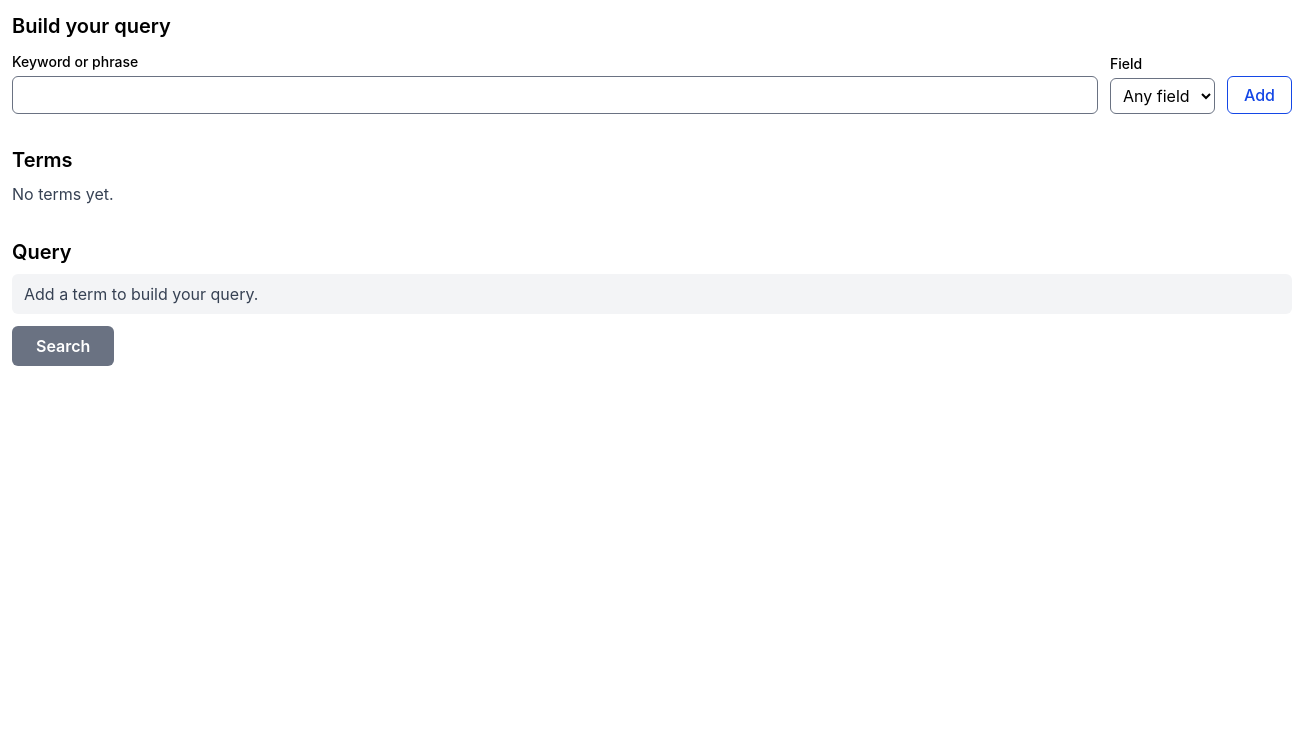
SearchWorkspace › searches only when Search is pressed
Click the button "Search".
click(63, 346)  # box [12,326,114,366]
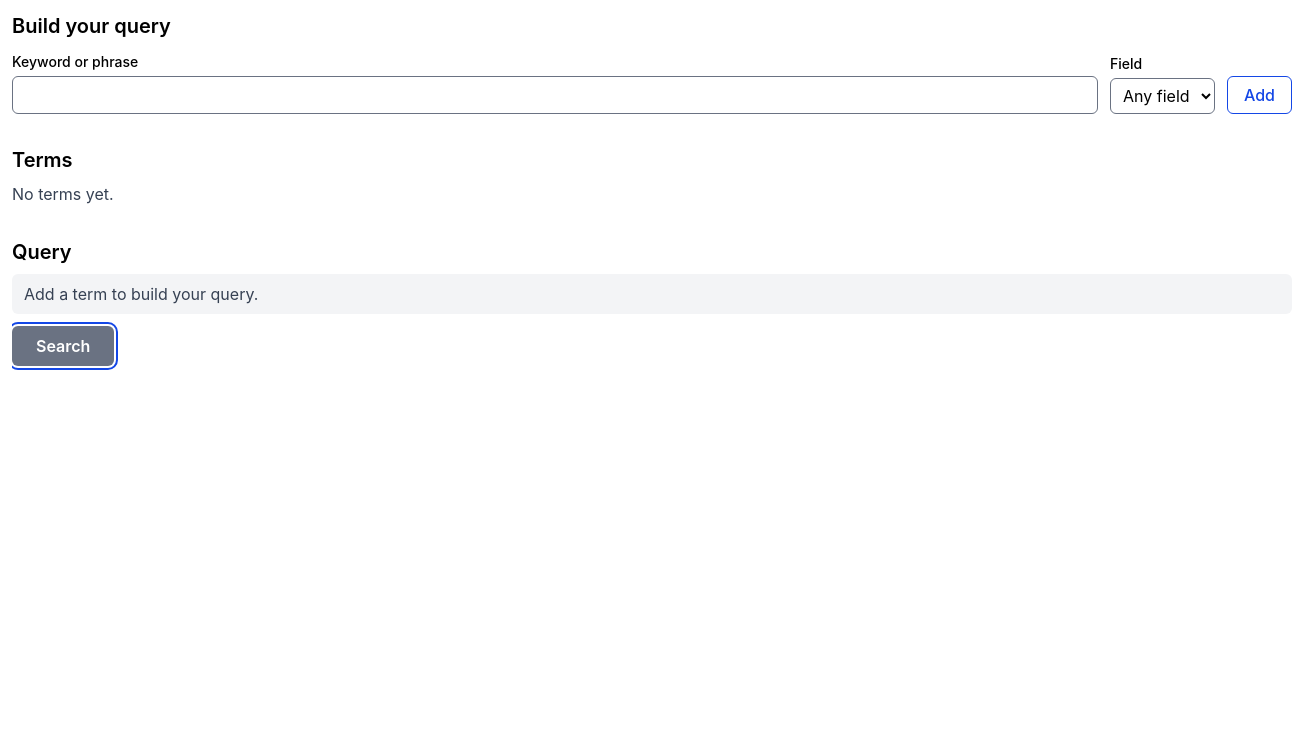
Expected: the heading "Results" is not shown
Type "cancer" into the field labelled "Keyword or phrase".
click(555, 95); type("cancer")  # box [12,76,1098,114]
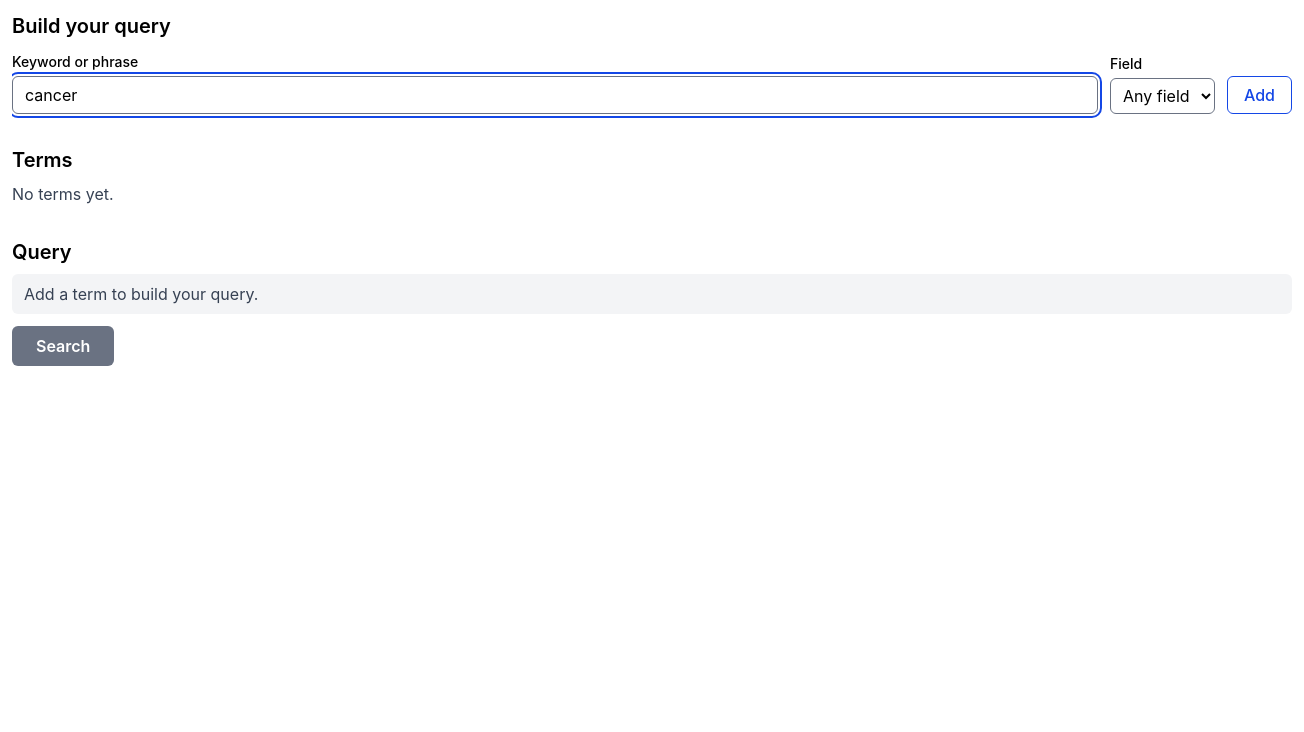
Click the button "Add".
click(1260, 95)  # box [1227,76,1292,114]
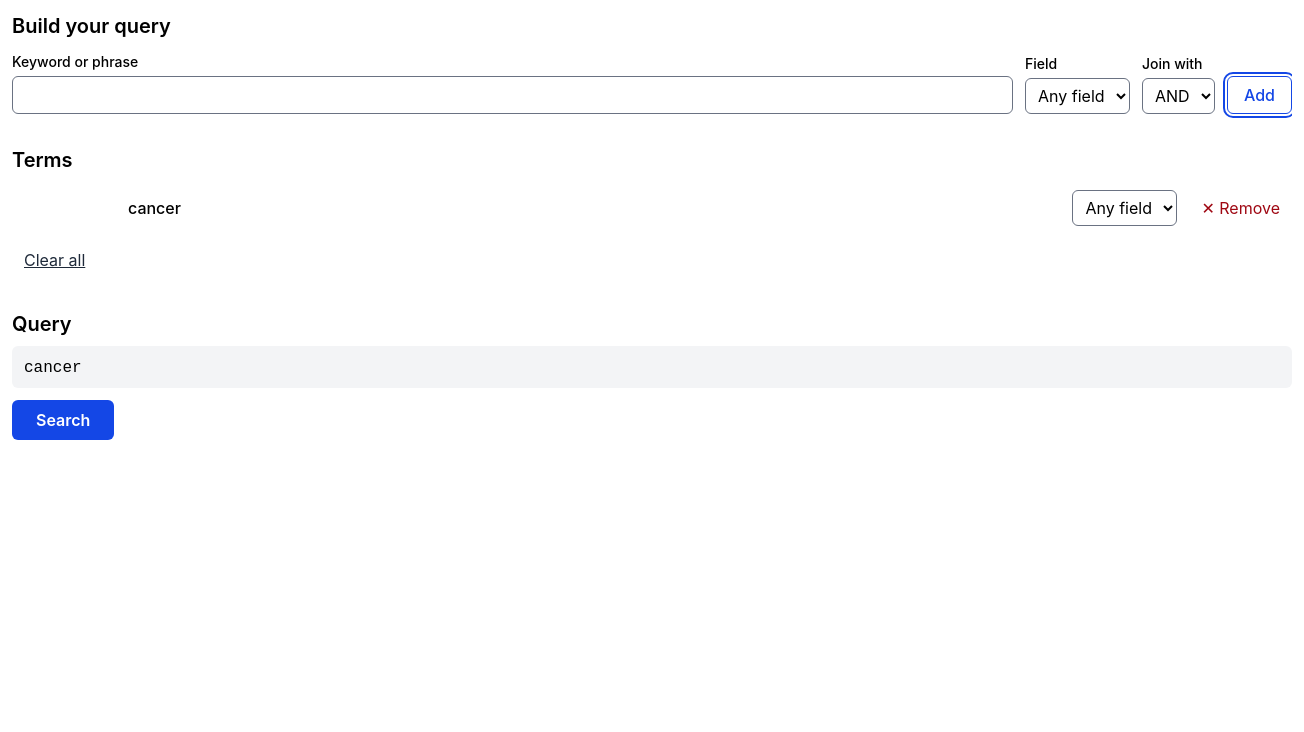
Expected: the heading "Results" is not shown
Expected: the button "Search" is enabled
Click the button "Search".
click(63, 420)  # box [12,400,114,440]
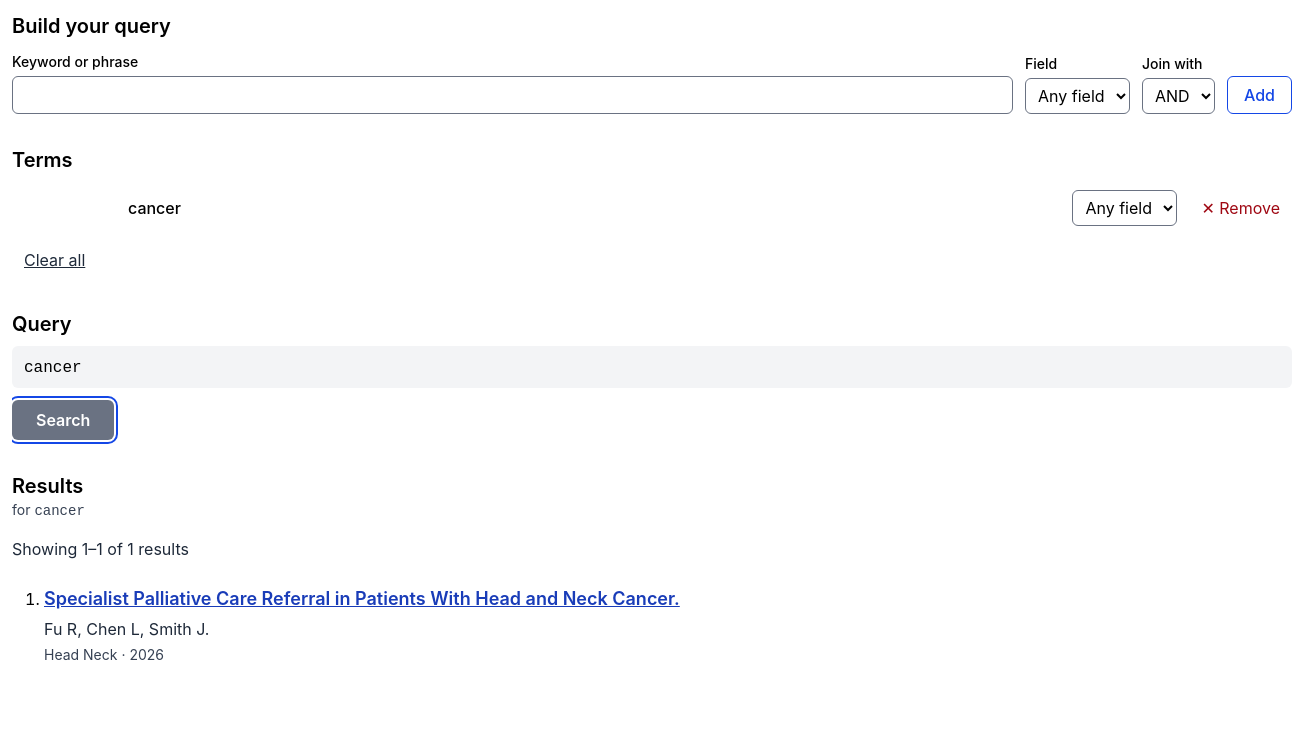
Expected: the link "Specialist Palliative Care" is shown, [44,588,680,609]
Expected: the text "Showing 1–1 of 1 results" is shown, [12,539,189,559]
